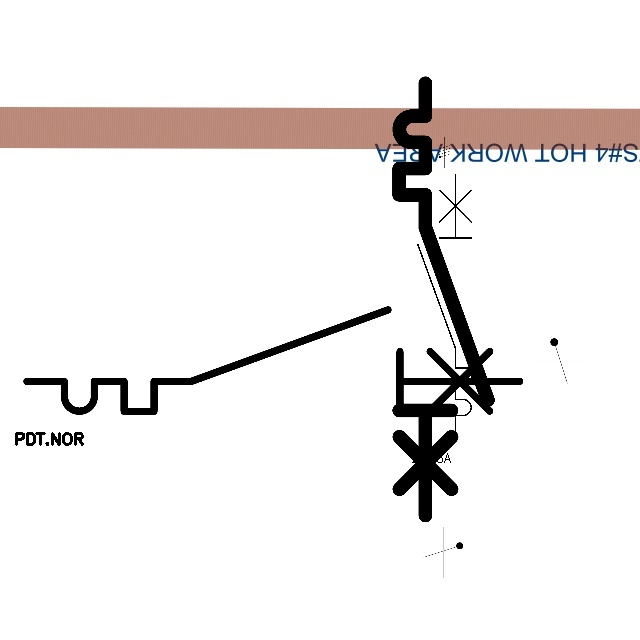interruptor_termomagnetico: (14, 297, 532, 424), (388, 72, 499, 526), (411, 168, 478, 442)
